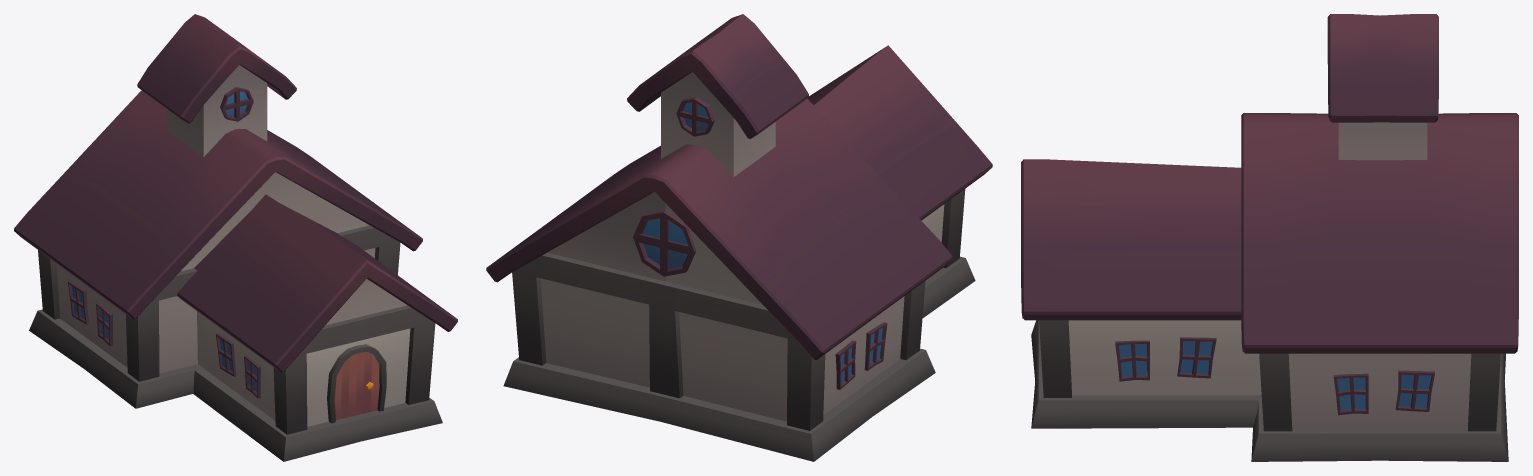
File: iglesia.obj
3 renders of one model, left to right at view 1: azimuth 30°, elevation 25°; view 2: azimuth 150°, elevation 25°; view 3: azimuth 270°, elevation 25°, orthographic. The views are drawn at different scales.
Parts seen in each view (by area): view 1: Chapel; view 2: Chapel; view 3: Chapel.
Part boxes in pixels (box(x1,y1,x2,y2)): Chapel: box(14, 14, 457, 461); Chapel: box(486, 14, 992, 461); Chapel: box(1021, 14, 1518, 461).
Bounding box in the file's own units: 3.19 × 3.15 × 3.86.
1 material, 1 textured.
